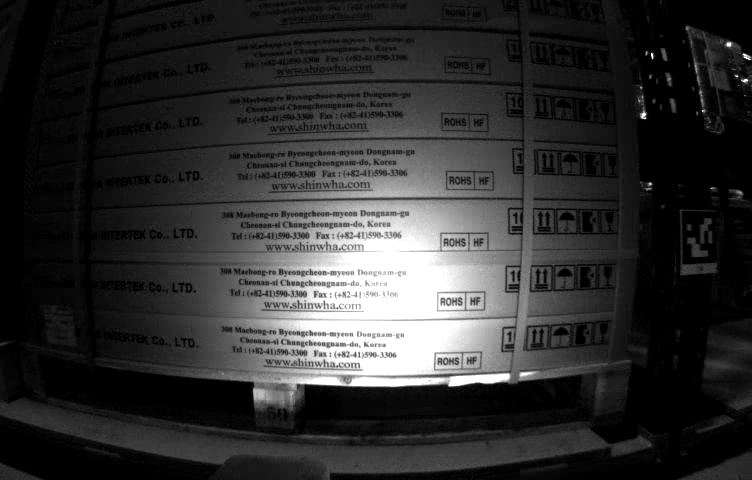True Barcode: (46, 301, 74, 349)
